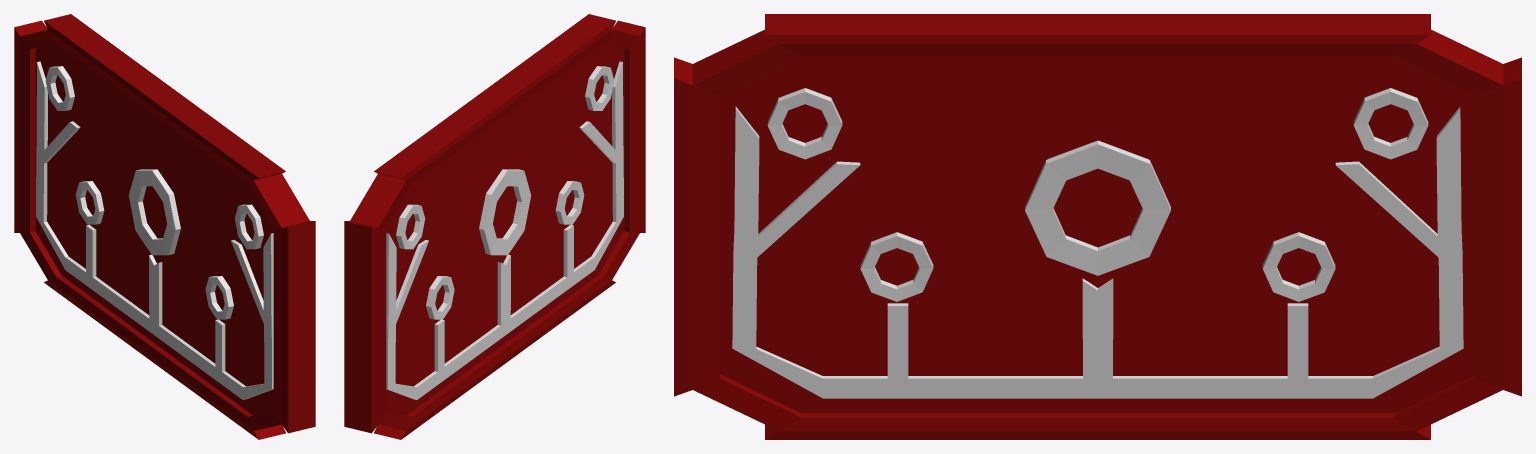
Rendered from props.fbx.
3 renders of one model, left to right at view 1: azimuth 30°, elevation 25°; view 2: azimuth 150°, elevation 25°; view 3: azimuth 270°, elevation 25°, orthographic. The views are drawn at different scales.
Parts seen in each view (by area): view 1: Base_3, circuitos_3; view 2: Base_3, circuitos_3; view 3: Base_3, circuitos_3.
Boxes of the visible parts, x1,y1,x2,y2 form: Base_3: (14,14,315,439); circuitos_3: (36,61,273,399); Base_3: (344,14,645,439); circuitos_3: (386,61,623,399); Base_3: (674,14,1521,439); circuitos_3: (732,88,1463,398).
Size of the model in its own units: 6.49 by 57.28 by 109.
